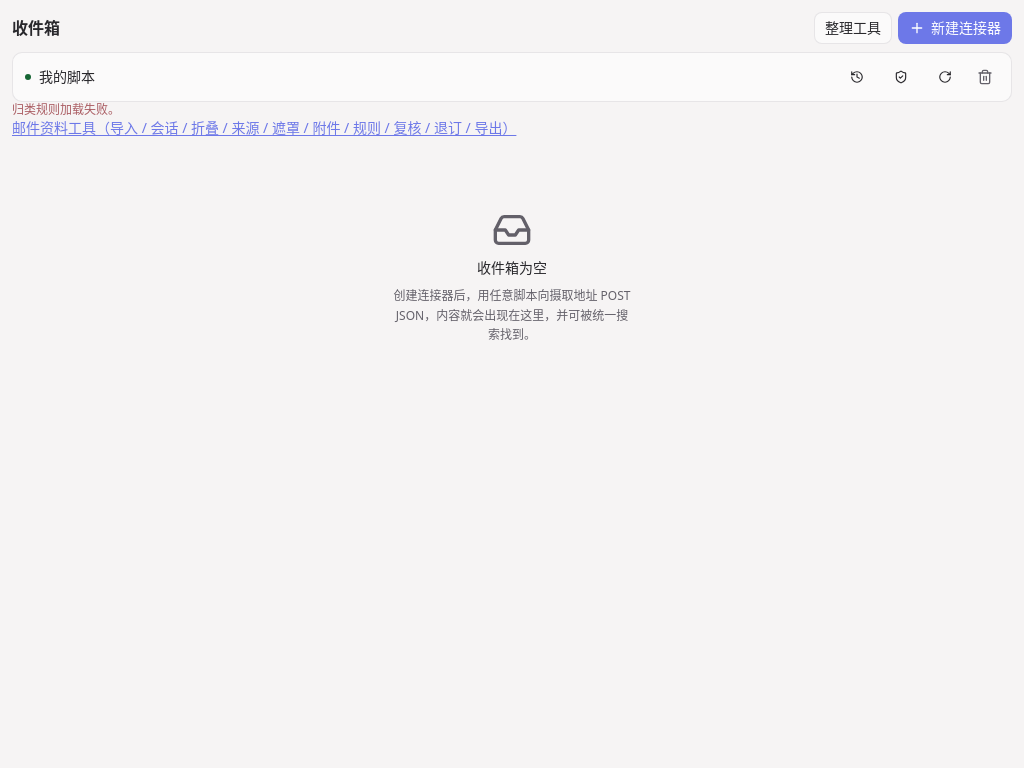
Test: F108 接入检查（零写入试跑） › F108: 合法载荷 → wouldCreate；未知字段进 notes
Click the button named "接入检查 我的脚本": (901, 77) [883,61,919,93]
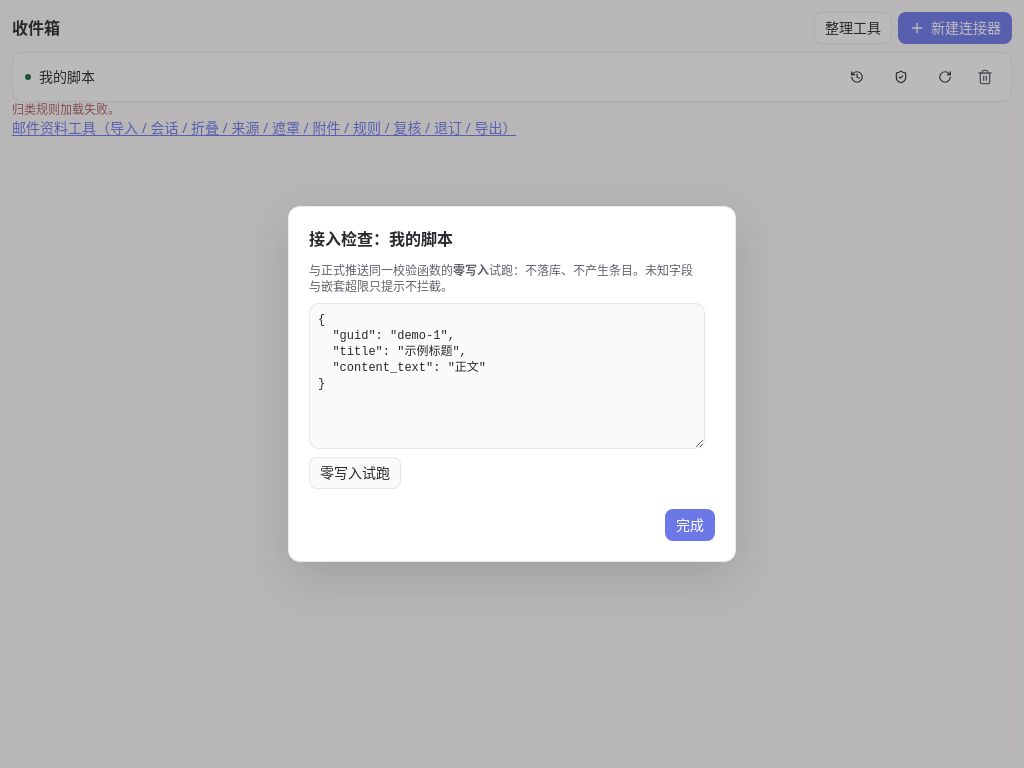
Click the button "零写入试跑": (355, 473) [309,457,401,489]
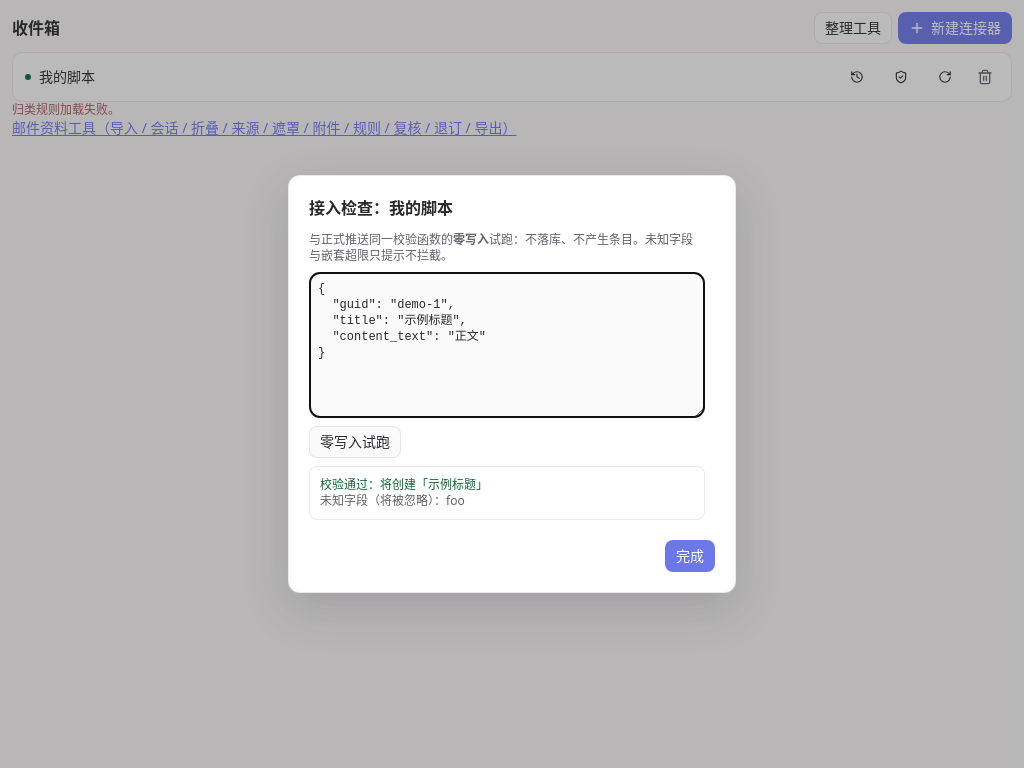
Check: the message "校验通过：将创建「示例标题」" is shown, box [320,476,488,493]
Check: the element showing "未知字段（将被忽略）：foo" is shown, box [320,492,465,509]
